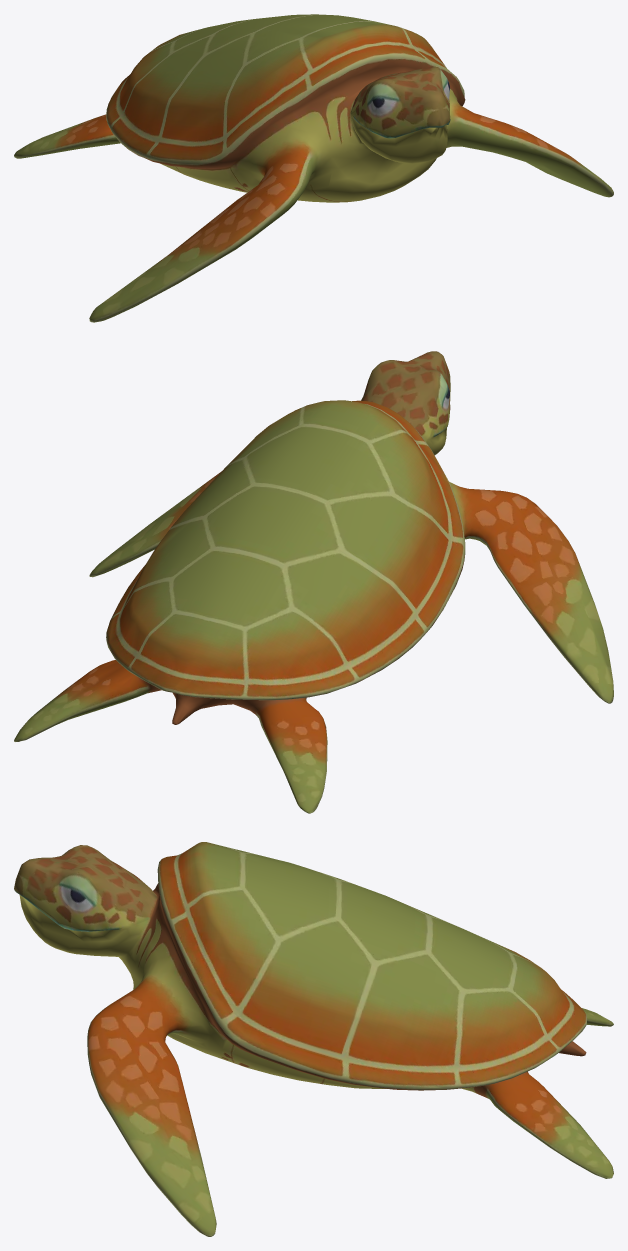
Rendered from sea-turtle_lod2.glb.
3 renders of one model, top to bottom at view 1: azimuth 30°, elevation 25°; view 2: azimuth 150°, elevation 25°; view 3: azimuth 270°, elevation 25°, orthographic. The views are drawn at different scales.
Visible parts, largest first — view 1: sea_turtle.1; view 2: sea_turtle.1; view 3: sea_turtle.1.
Boxes of the visible parts, x1,y1,x2,y2 form: sea_turtle.1: (14, 14, 613, 322); sea_turtle.1: (14, 351, 613, 813); sea_turtle.1: (14, 842, 613, 1236).
Bounding box in the file's own units: 0.1168 × 0.0499 × 0.1093.
Materials: 1 (1 with a texture image).
